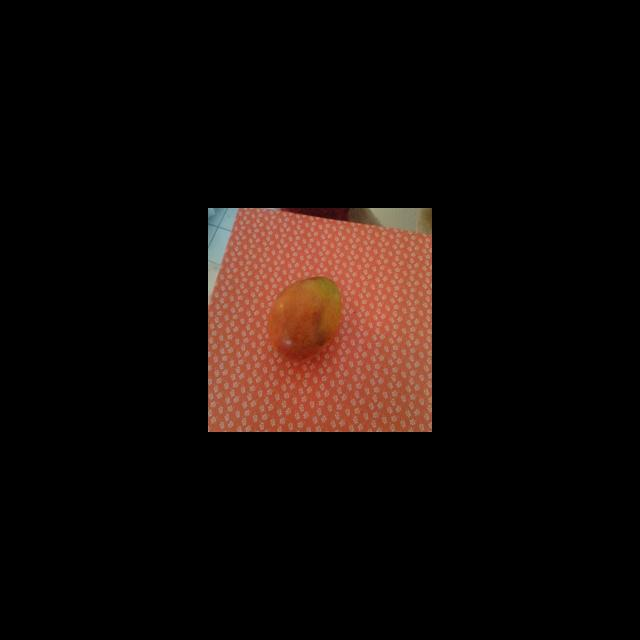Mango: (208, 208, 431, 431), (267, 275, 342, 359)
